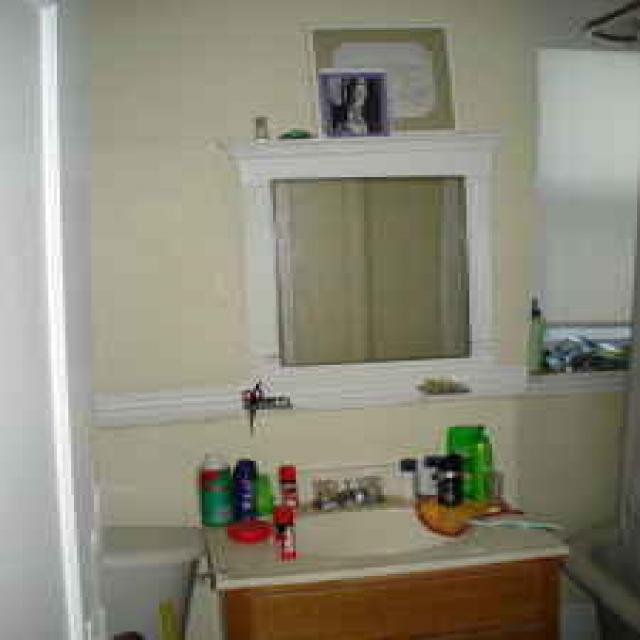2001: (535, 47, 637, 320)
bath faucet: (560, 510, 637, 636)
cistern: (102, 523, 205, 636)
closet crop: (205, 132, 509, 375)
door bars: (3, 0, 105, 636)
faucet handle: (336, 478, 364, 506)
flask crop: (523, 299, 540, 371), (398, 454, 415, 506), (250, 115, 265, 139)
mirror crop: (270, 177, 464, 367)
photograph: (316, 68, 387, 134)
soap bottle: (225, 518, 270, 542)
tin box: (196, 450, 230, 523), (435, 454, 461, 503), (233, 459, 253, 521), (273, 506, 293, 559), (276, 465, 296, 506)
toothbrush: (250, 384, 259, 427)
wall clock: (88, 0, 637, 638)
washbasin crop: (199, 495, 566, 638)
